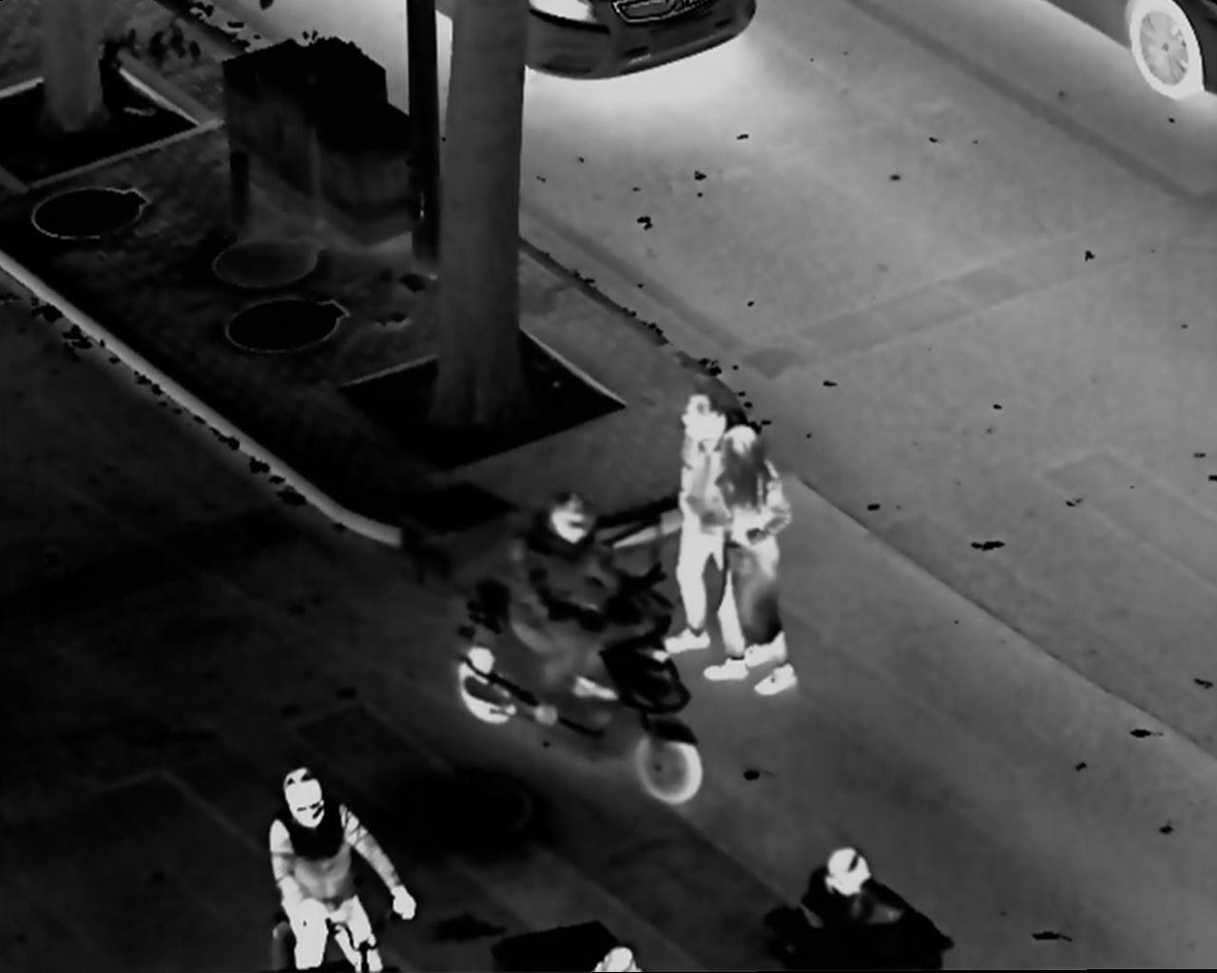person: (507, 485, 665, 733), (260, 760, 420, 973), (665, 382, 785, 659), (706, 422, 802, 696), (807, 846, 931, 973)
